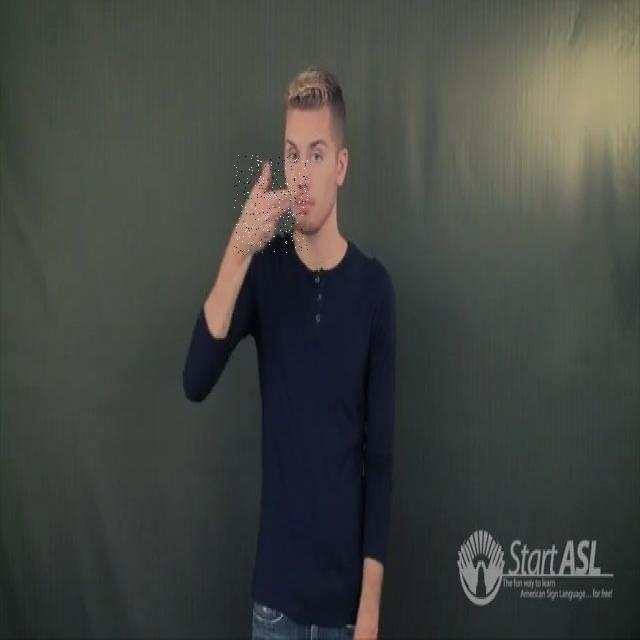pizza: (234, 155, 308, 255)
